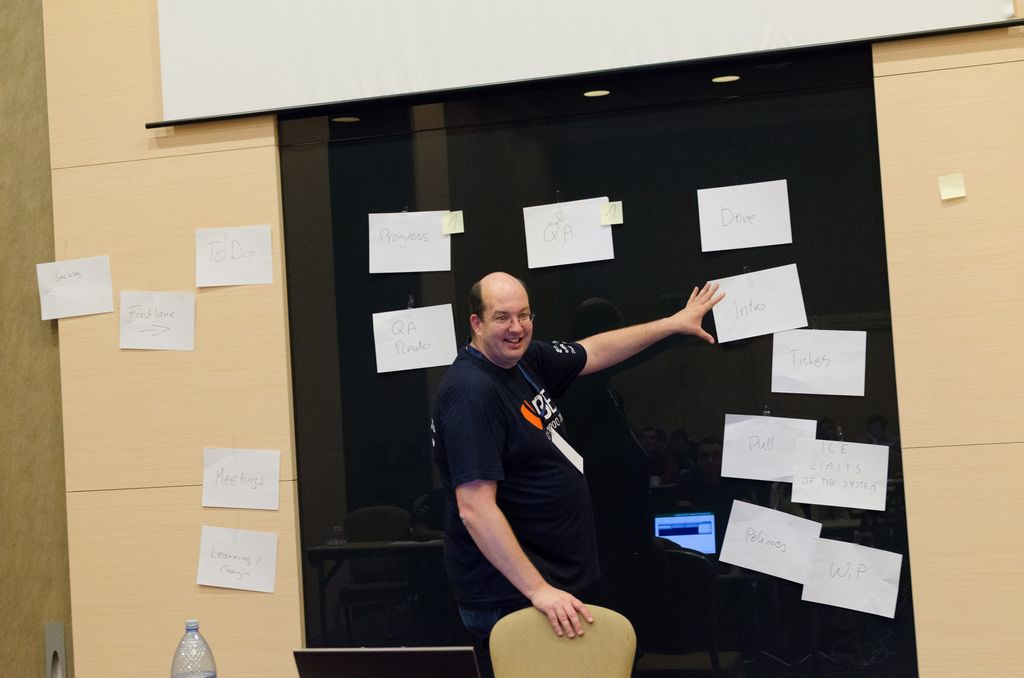Human_hand: (515, 582, 600, 660), (668, 278, 729, 347)
